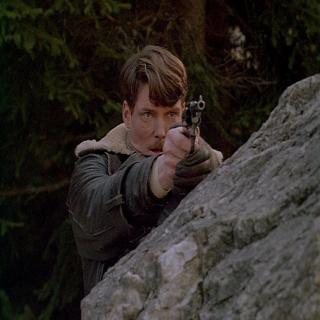gun: (174, 91, 204, 160)
